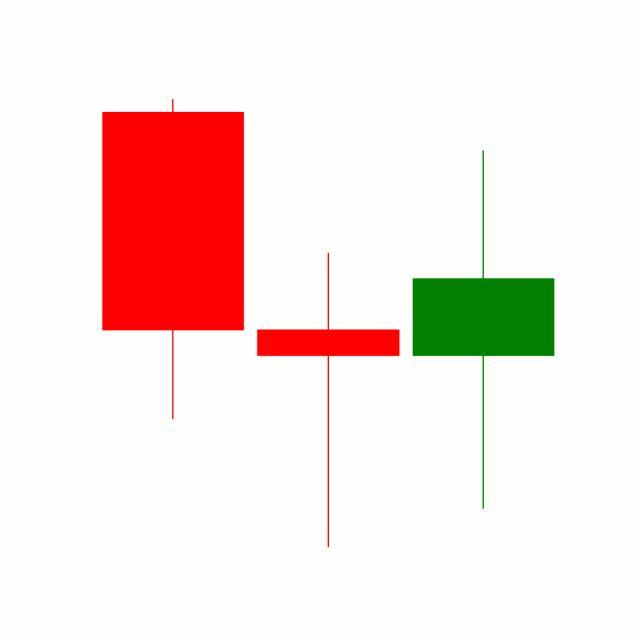Spinning Top: (250, 250, 407, 552)
